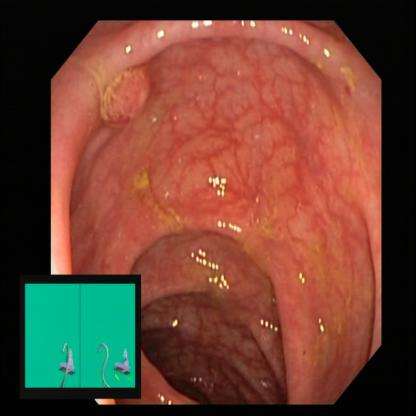Labels: (22, 273, 142, 396)
Polyps: (94, 69, 169, 135)
